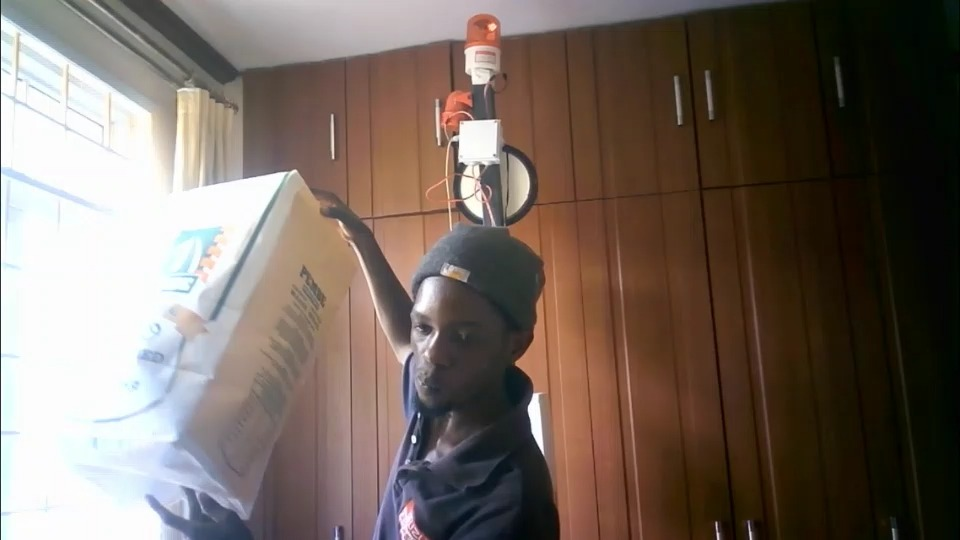maize_flour_green_label: (105, 169, 347, 526)
